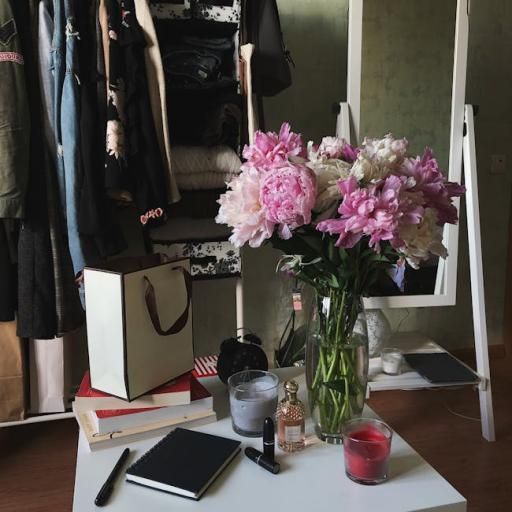lipstick: (245, 447, 280, 474), (264, 417, 274, 460)
